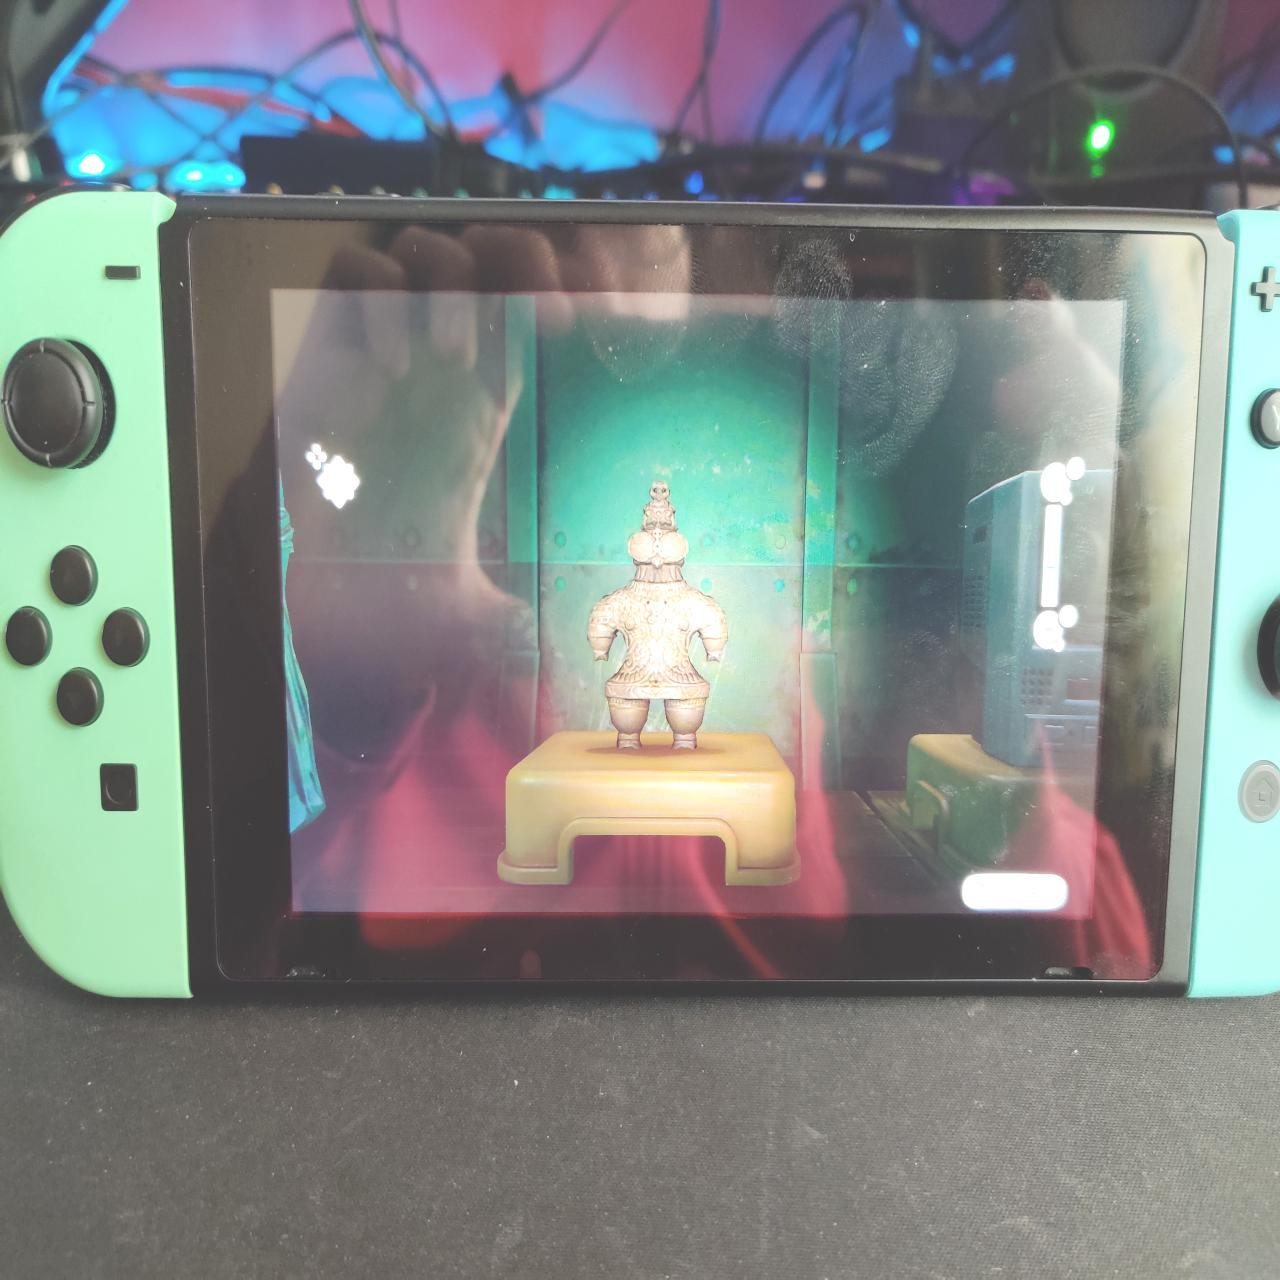Doguu: (585, 478, 731, 761)
